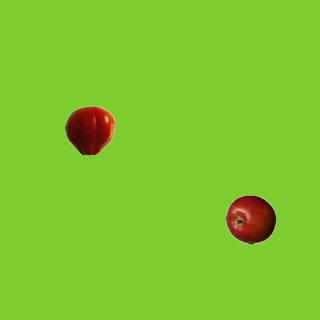Apple Braeburn: (225, 194, 275, 244)
Tomato 1: (64, 105, 114, 155)
